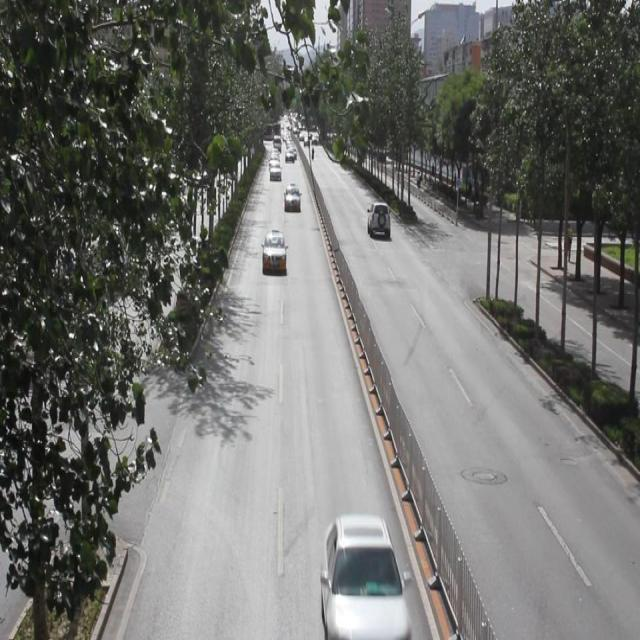car: (320, 513, 407, 640), (262, 229, 285, 270), (367, 201, 388, 239), (284, 185, 299, 212)
